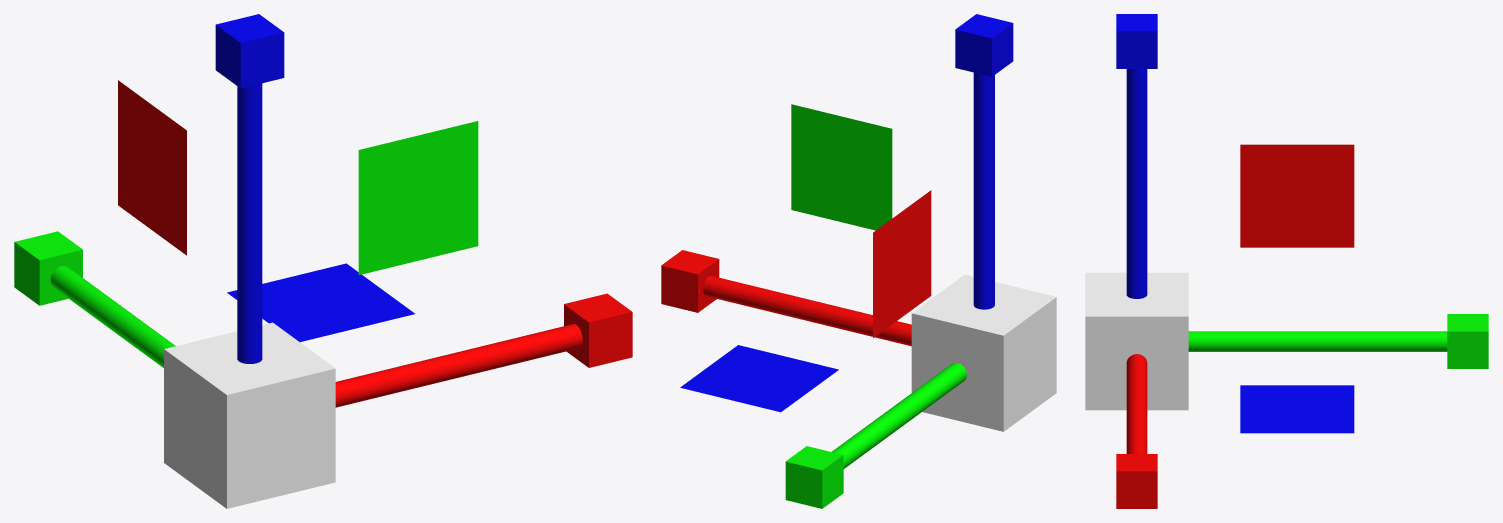
The model's file is gizmo-scale.glb.
3 views of the same model, side by side, from view 1: azimuth 30°, elevation 25°; view 2: azimuth 150°, elevation 25°; view 3: azimuth 270°, elevation 25° (orthographic). The views are drawn at different scales.
Parts seen in each view (by area): view 1: AllCube, Y Plane, X Plane, Z Plane, Z, X, ZCube, XCube, Y, YCube; view 2: AllCube, Y Plane, X Plane, Z Plane, Z, X, Y, ZCube, YCube, XCube; view 3: AllCube, X Plane, Z Plane, Y, Z, XCube, YCube, ZCube, X.
Part boxes in pixels (x1,y1,x2,y2): AllCube: [164, 322, 335, 508]; Y Plane: [358, 121, 478, 274]; X Plane: [118, 80, 186, 255]; Z Plane: [227, 263, 414, 341]; Z: [237, 83, 262, 363]; X: [335, 324, 582, 407]; ZCube: [215, 14, 284, 88]; XCube: [564, 293, 632, 367]; Y: [50, 266, 175, 367]; YCube: [14, 231, 82, 305]; AllCube: [911, 274, 1056, 431]; Y Plane: [791, 104, 892, 230]; X Plane: [873, 190, 931, 337]; Z Plane: [680, 345, 838, 412]; Z: [973, 72, 994, 309]; X: [703, 275, 911, 346]; Y: [832, 362, 966, 468]; ZCube: [955, 14, 1013, 76]; YCube: [785, 446, 843, 508]; XCube: [661, 250, 719, 312]; AllCube: [1085, 272, 1188, 410]; X Plane: [1240, 144, 1354, 247]; Z Plane: [1240, 385, 1354, 433]; Y: [1188, 331, 1447, 351]; Z: [1126, 69, 1147, 298]; XCube: [1116, 454, 1157, 508]; YCube: [1447, 314, 1488, 368]; ZCube: [1116, 14, 1157, 68]; X: [1126, 354, 1147, 453].
Size of what is drawn, in the model's own units: 3.9 by 3.9 by 3.9.
